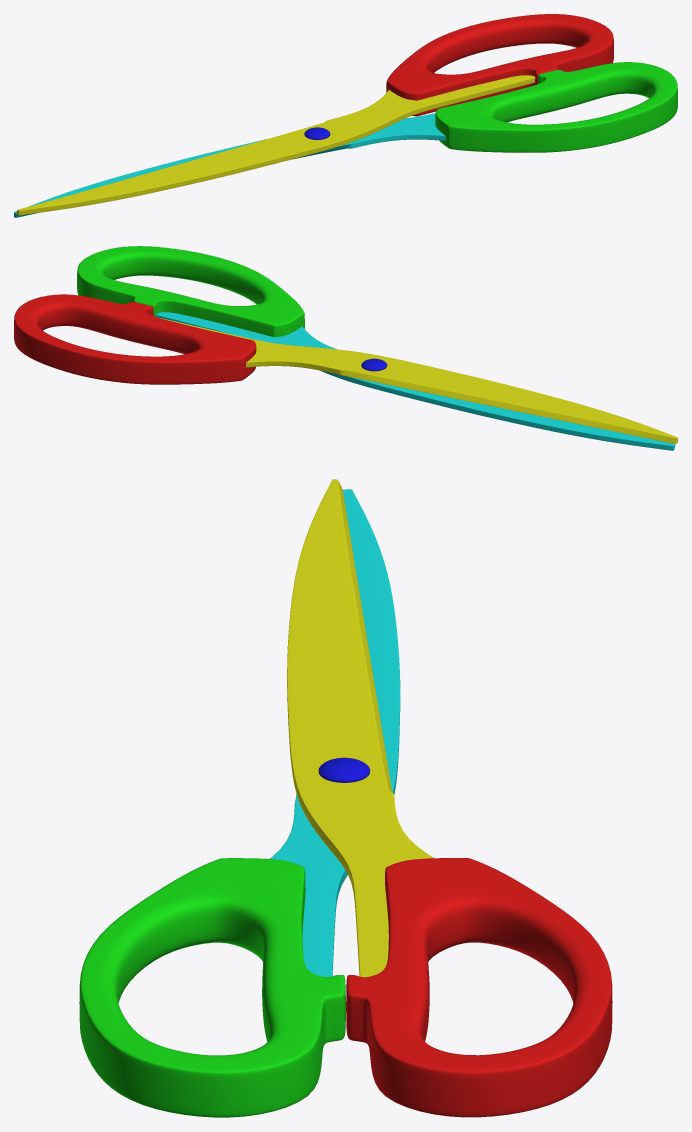
Rendered from scissors.glb.
3 views of the same model, one above another, from view 1: azimuth 30°, elevation 25°; view 2: azimuth 150°, elevation 25°; view 3: azimuth 270°, elevation 25° (orthographic). The views are drawn at different scales.
Visible parts, largest first — view 1: Scissors_Aged_(Baked AO); view 2: Scissors_Aged_(Baked AO); view 3: Scissors_Aged_(Baked AO).
Part boxes in pixels (left/top/right/bottom): Scissors_Aged_(Baked AO): left=14, top=14, right=677, bottom=217; Scissors_Aged_(Baked AO): left=14, top=246, right=677, bottom=450; Scissors_Aged_(Baked AO): left=79, top=479, right=612, bottom=1117.
Bounding box in the file's own units: 0.8981 × 0.0326 × 0.3333.
